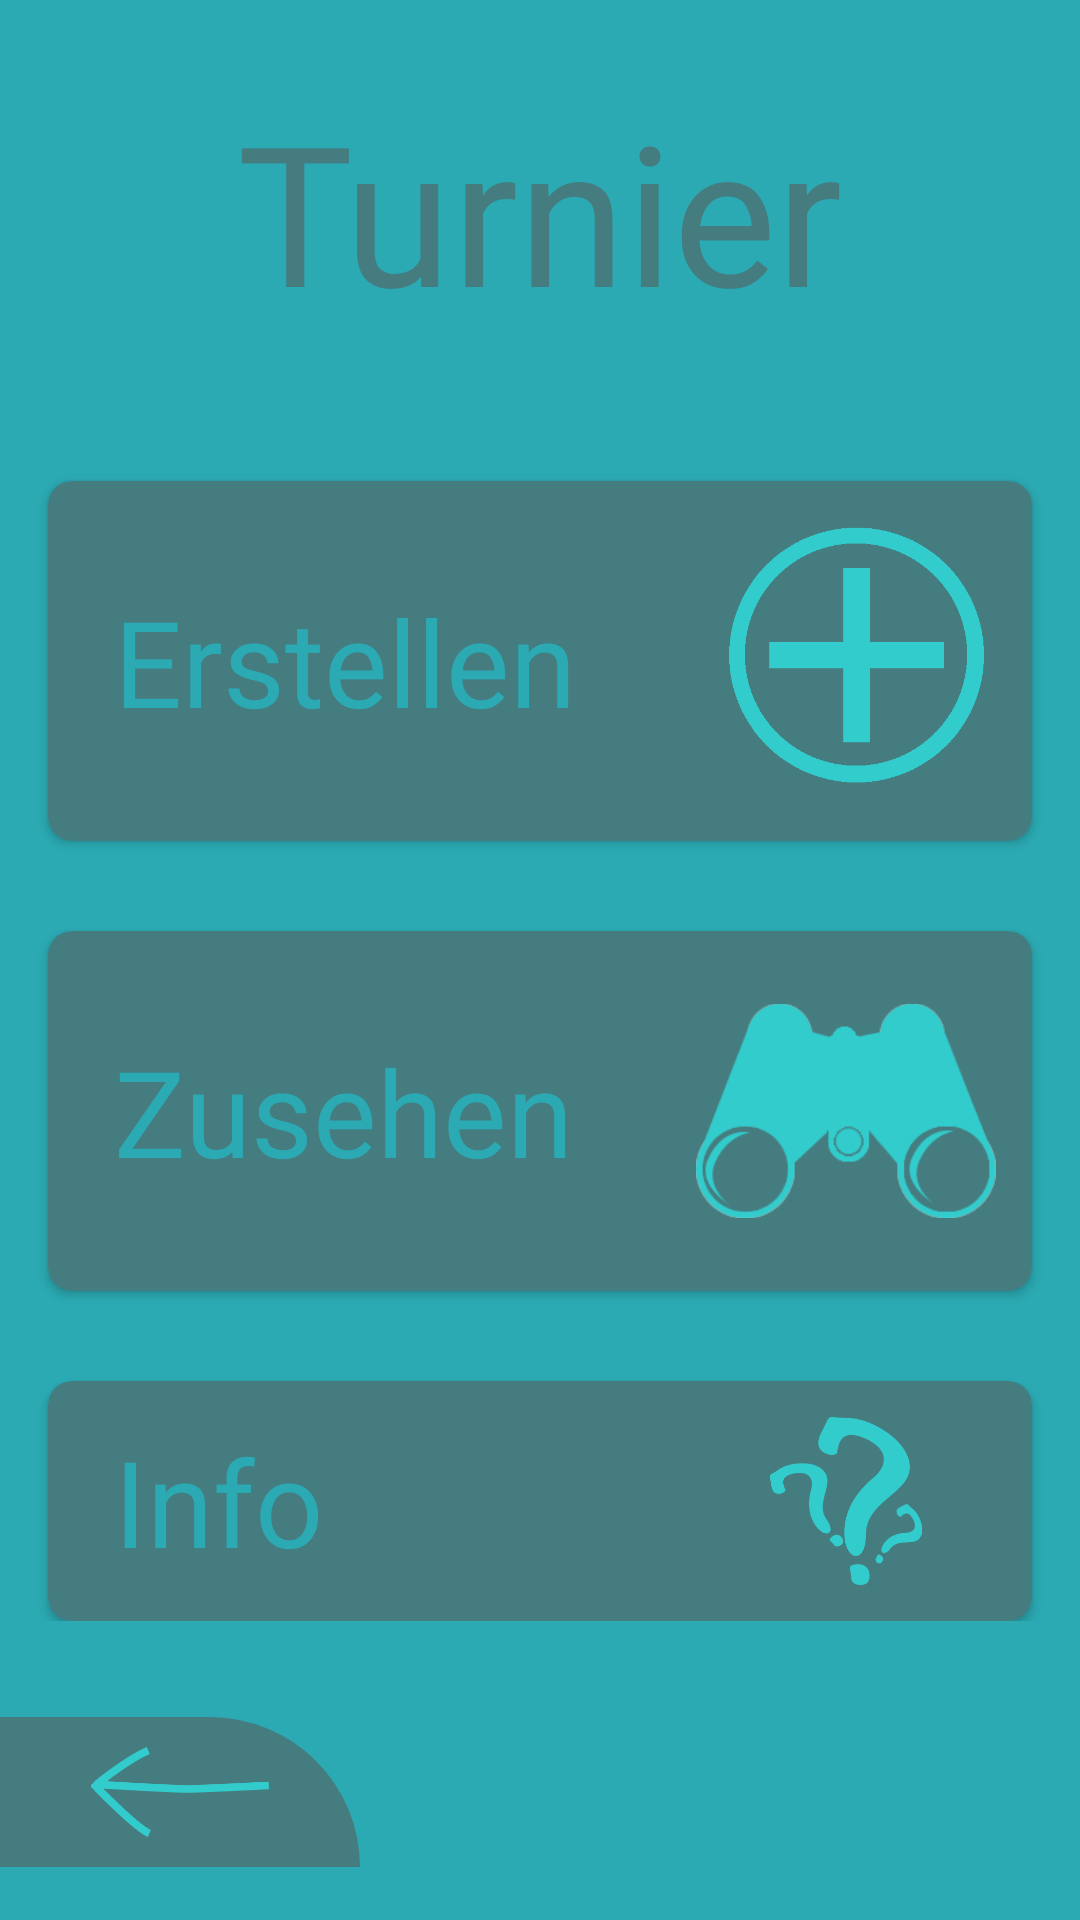

Screen size 1080w x 1920h. Icon name, then its box in pixels as (x1, y1, x2, y2):
arrow: (0, 1717, 360, 1867)
create: (729, 528, 984, 783)
question: (770, 1417, 922, 1585)
spectate: (696, 1004, 996, 1218)
